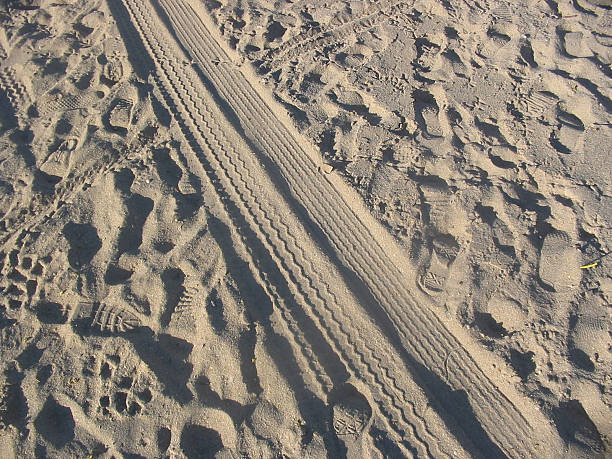vehicle_track: (152, 0, 546, 456), (141, 25, 447, 456)
